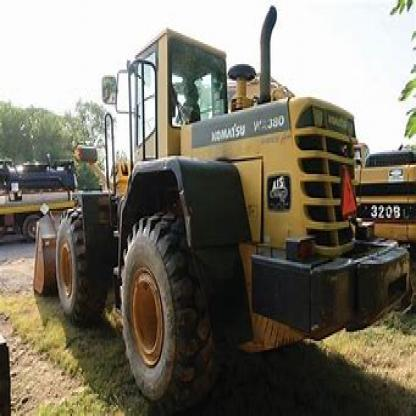bull_dozer/loader/grader: (26, 20, 405, 392)
